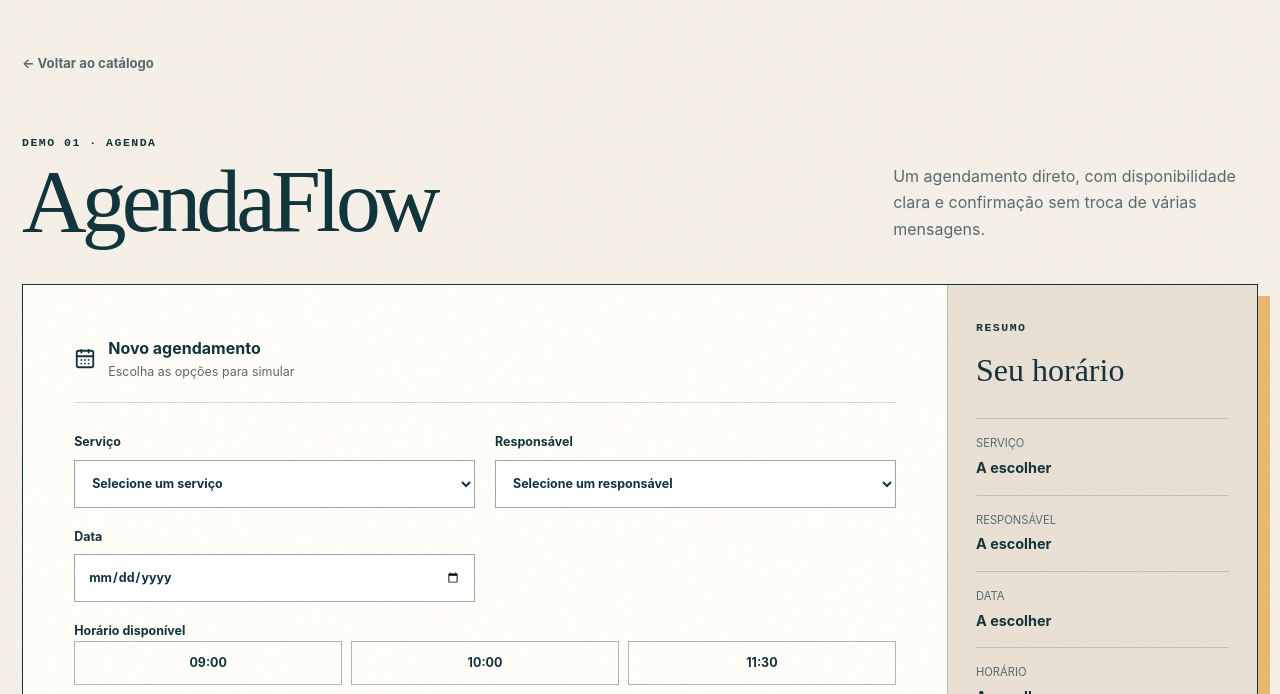
Test: AgendaDemoPage › confirma uma seleção completa como demonstração fictícia
Select "Reunião inicial · 45 min" in the dropdown labelled "Serviço": (275, 484) [74, 460, 475, 508]
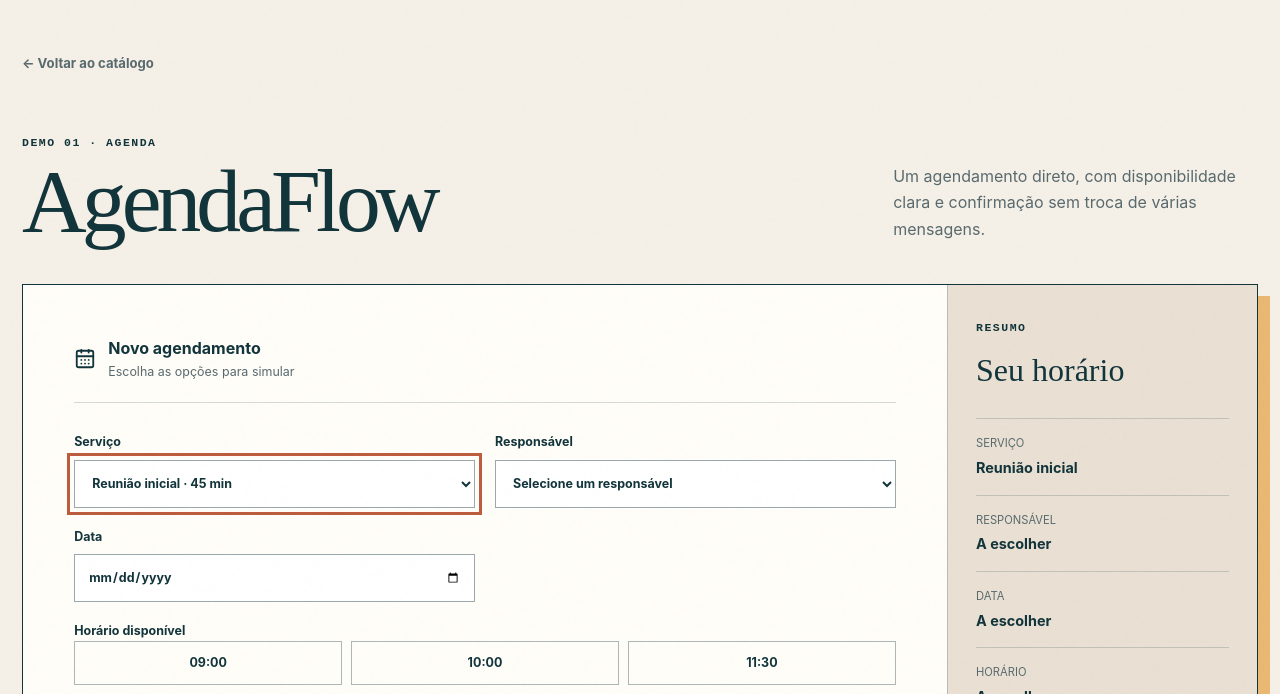
Select "Equipe de atendimento" in the dropdown labelled "Responsável": (695, 484) [495, 460, 896, 508]
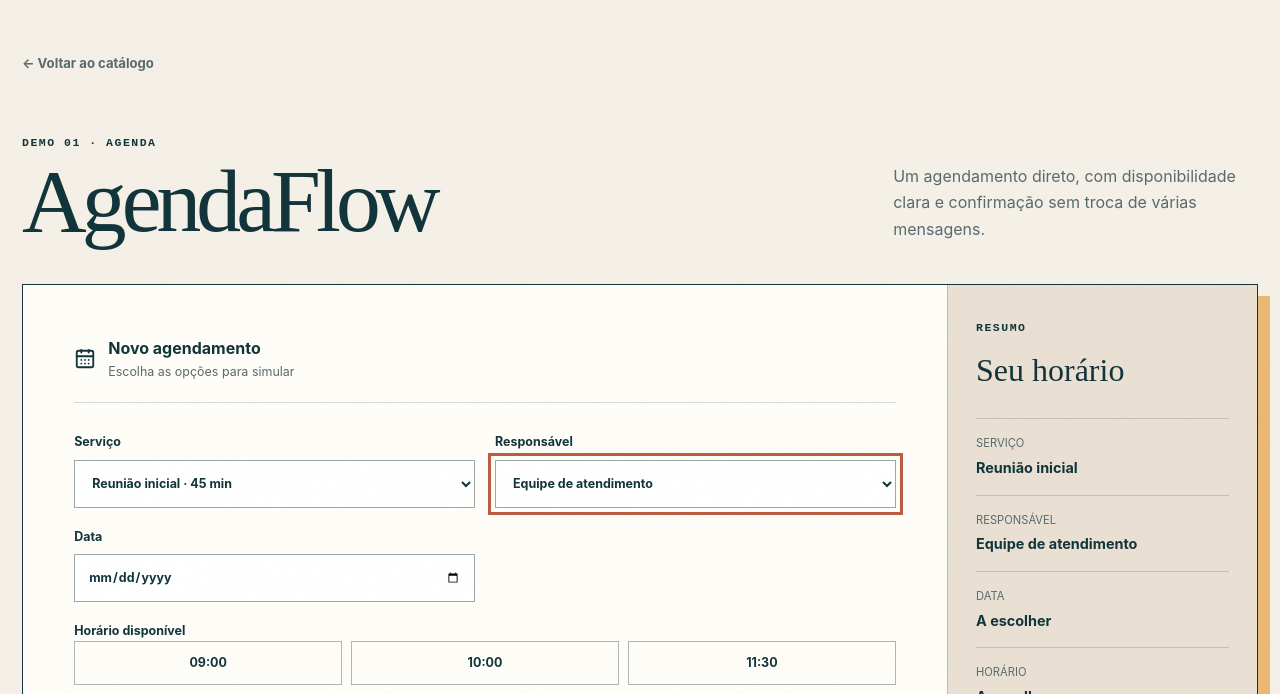
In the date field labelled "Data": (275, 578) [74, 554, 475, 602], type "2026-09-10"
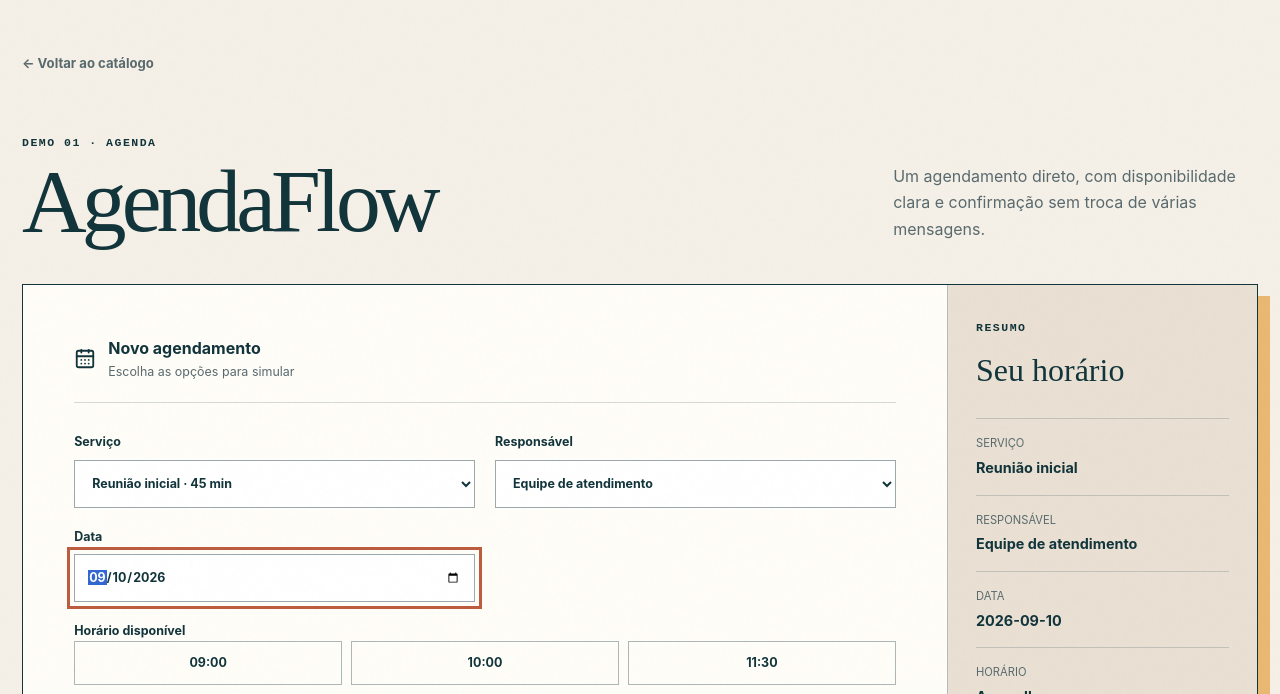
Click the button "10:00": (485, 663) [351, 641, 619, 685]
(page scrolled)
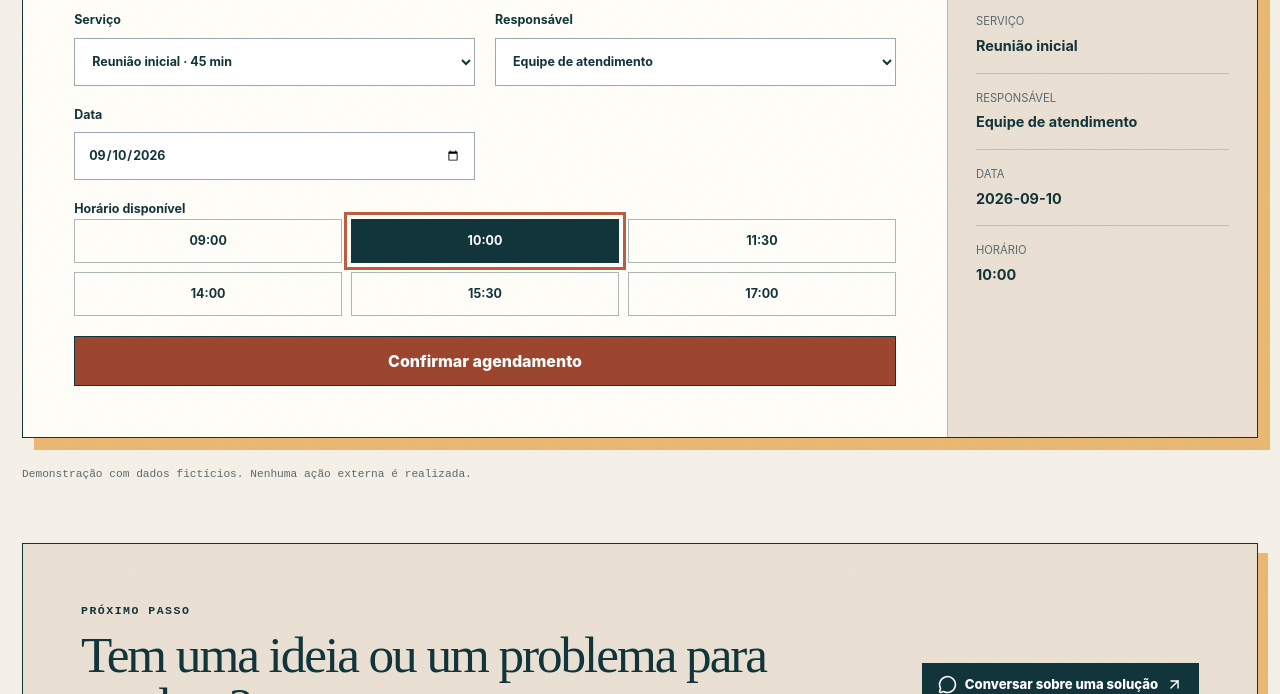
Click the button "Confirmar agendamento": (485, 361) [74, 336, 896, 386]
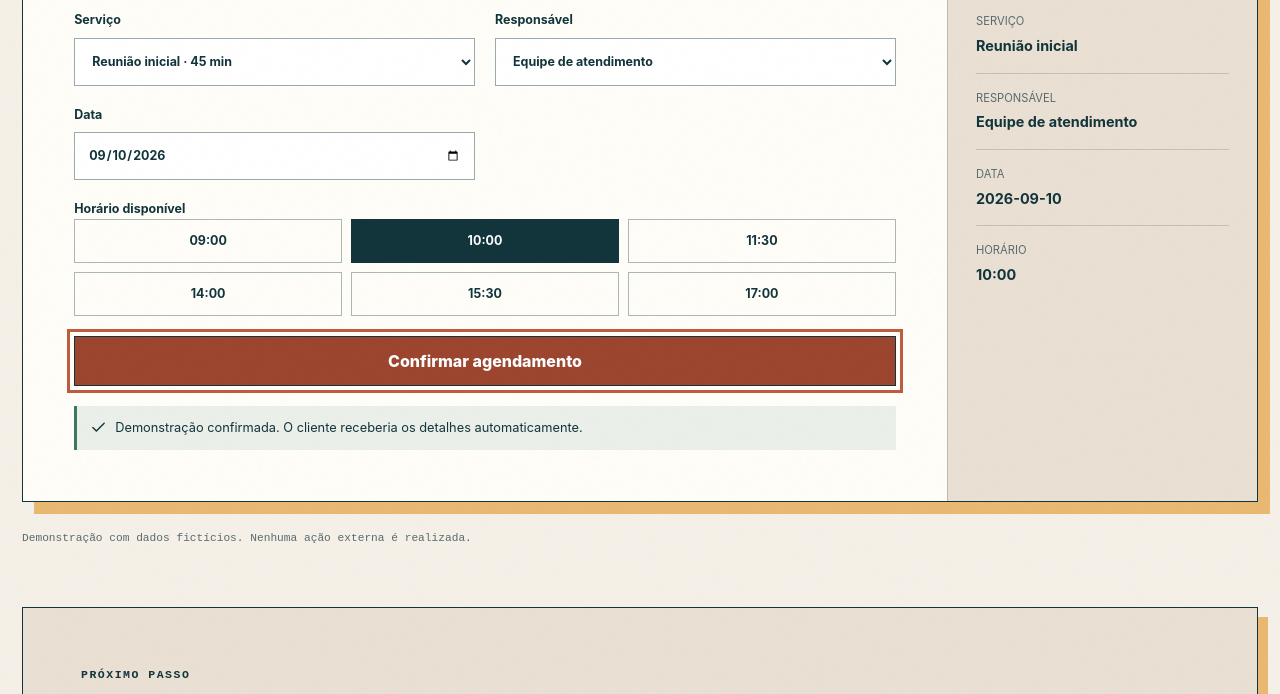
Result: the message shows "Demonstração confirmada" at [115, 420, 583, 435]
